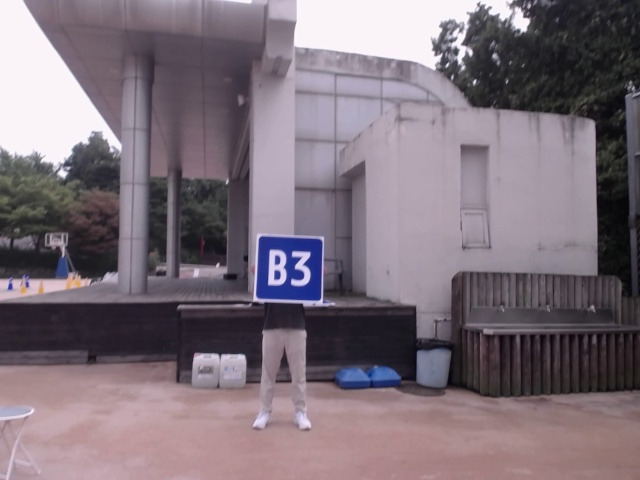delivery_b3: (257, 236, 325, 302)
